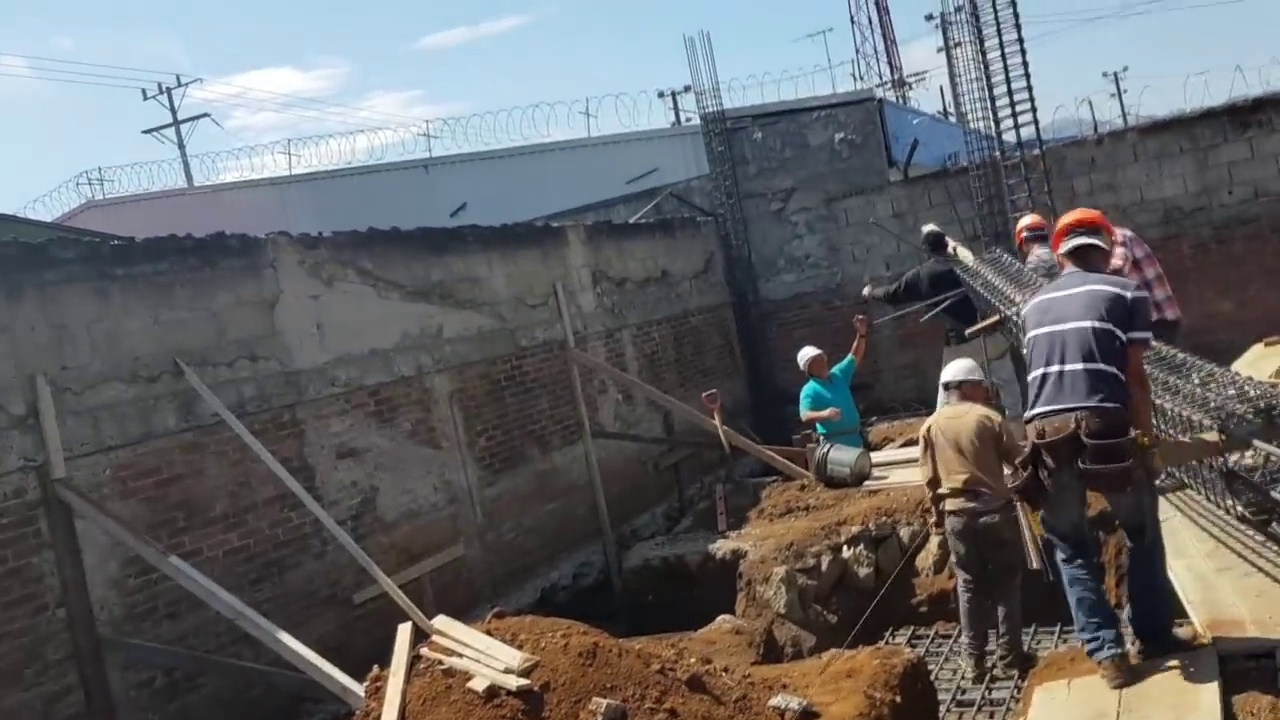helmet: (1052, 204, 1117, 272), (936, 357, 988, 389), (1015, 214, 1053, 245), (797, 345, 822, 370)
helmet-off: (918, 227, 952, 263)
helmet-on: (1047, 203, 1119, 284), (937, 357, 989, 409), (1014, 212, 1051, 261), (796, 344, 830, 381)
person: (1030, 212, 1202, 687), (923, 360, 1033, 684), (872, 225, 1028, 437), (795, 315, 877, 446), (1107, 226, 1195, 342)
